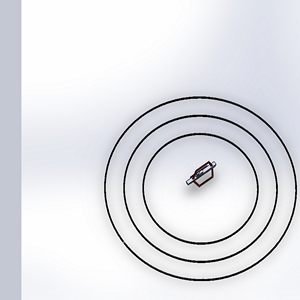circle: (101, 91, 299, 286)
submarine: (180, 154, 225, 202)
